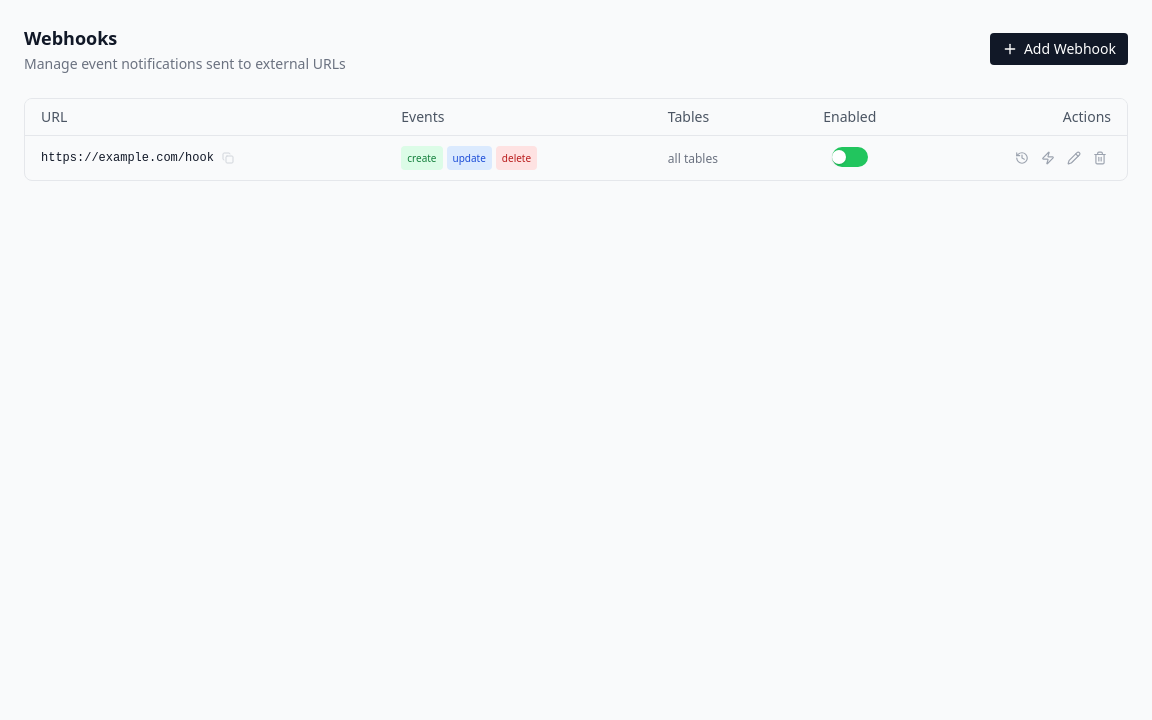
Webhooks › copies the webhook URL only after the clipboard write succeeds
Click the button named "Copy URL" at (228,158), box [220,150,236,166]
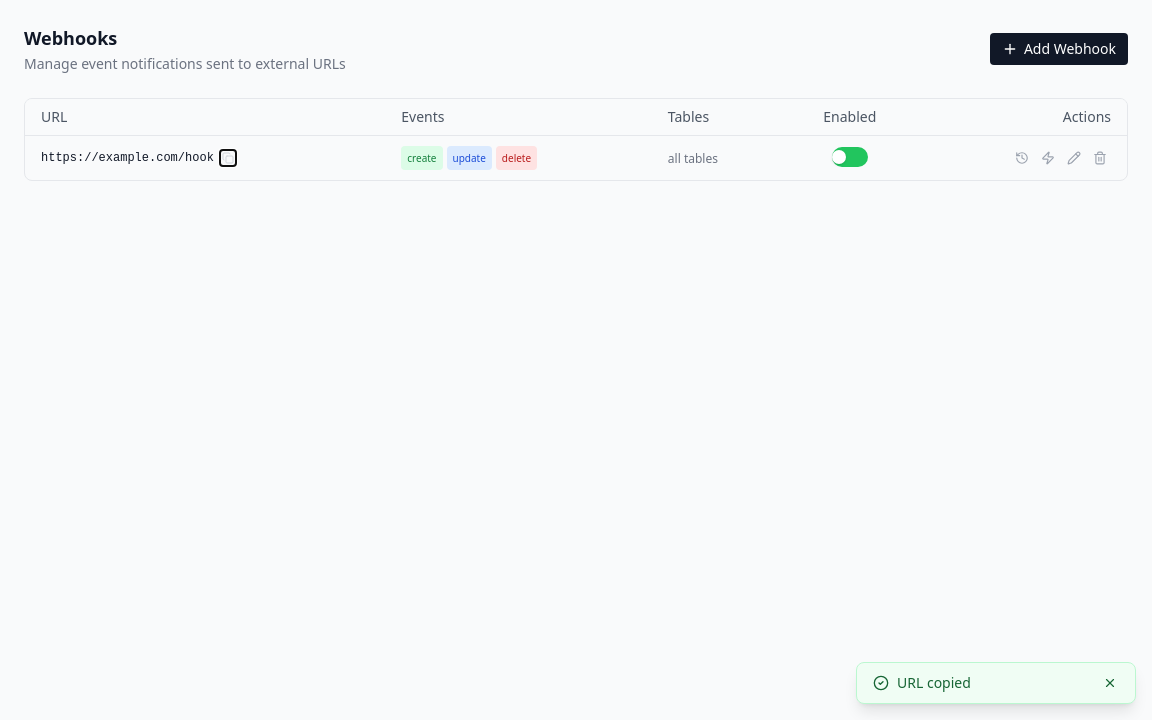
Result: the text "URL copied" is shown at [897,673,971,692]
